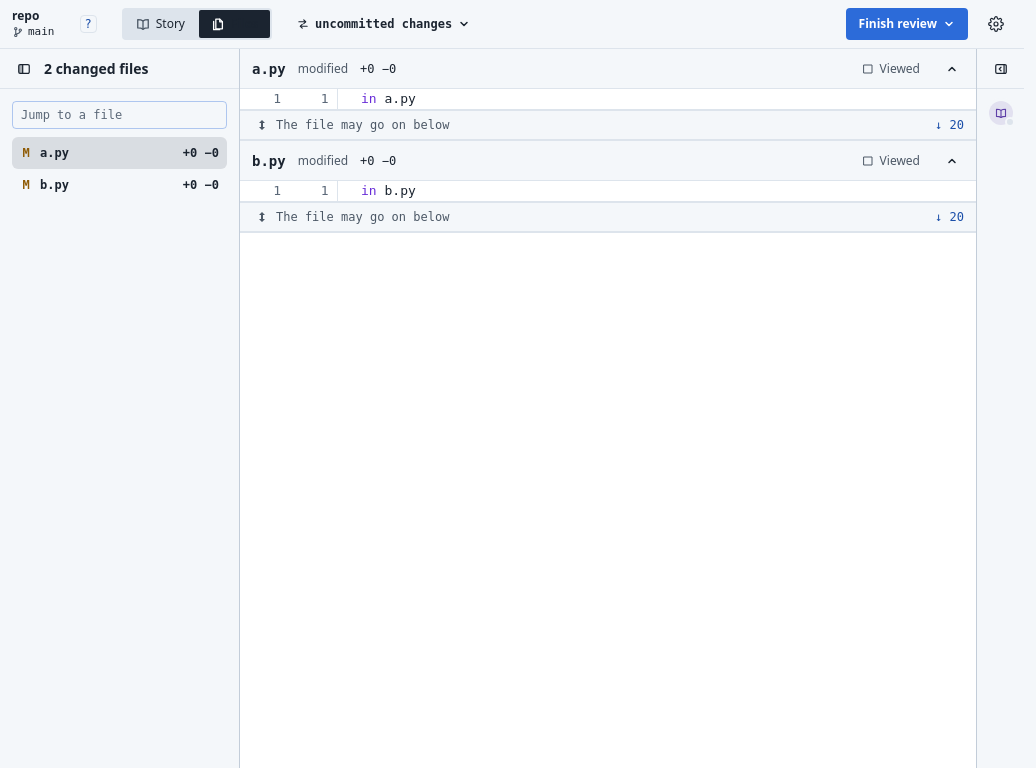
Test: the keys the review answers › leaves no cursor waiting when nobody is listening, for an agent arriving later to take
Type keys "c"
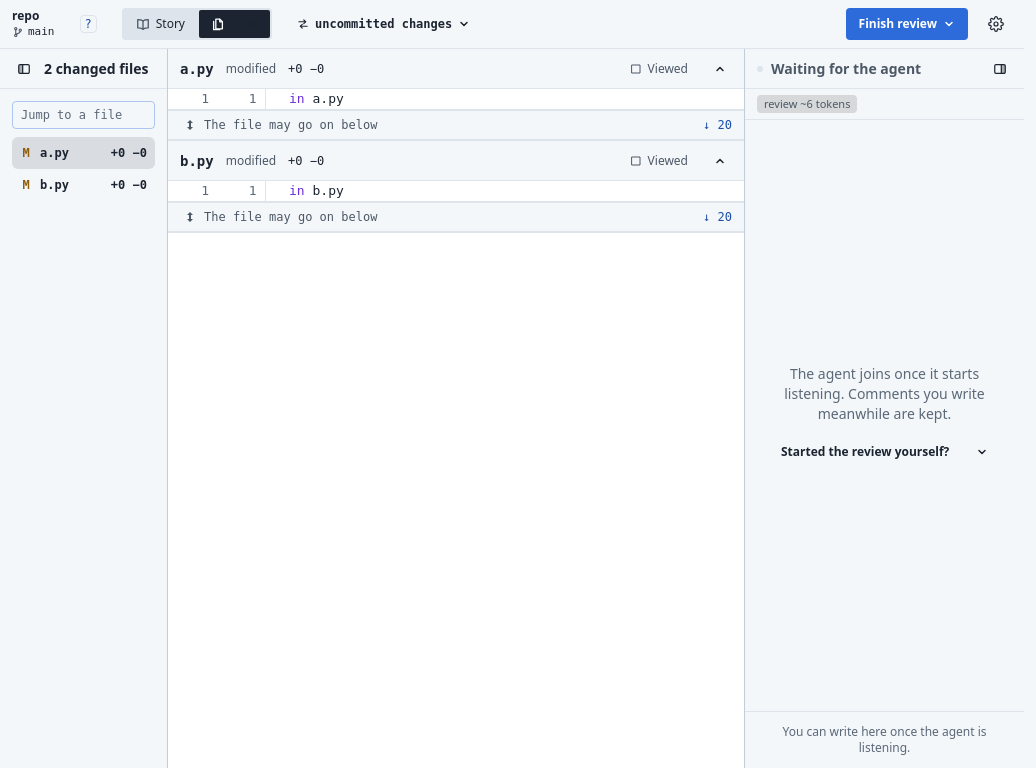
Click the 1st button with test id "line-gutter". click: click(241, 99)
box: [217,89,264,109]
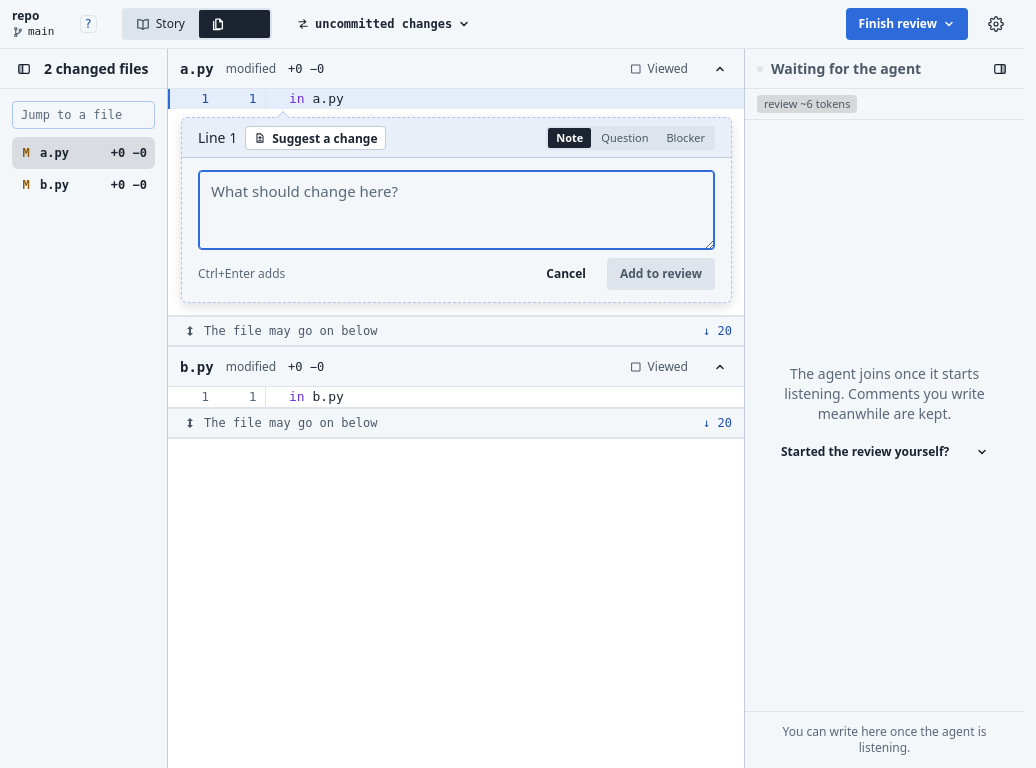
Type keys "Half"
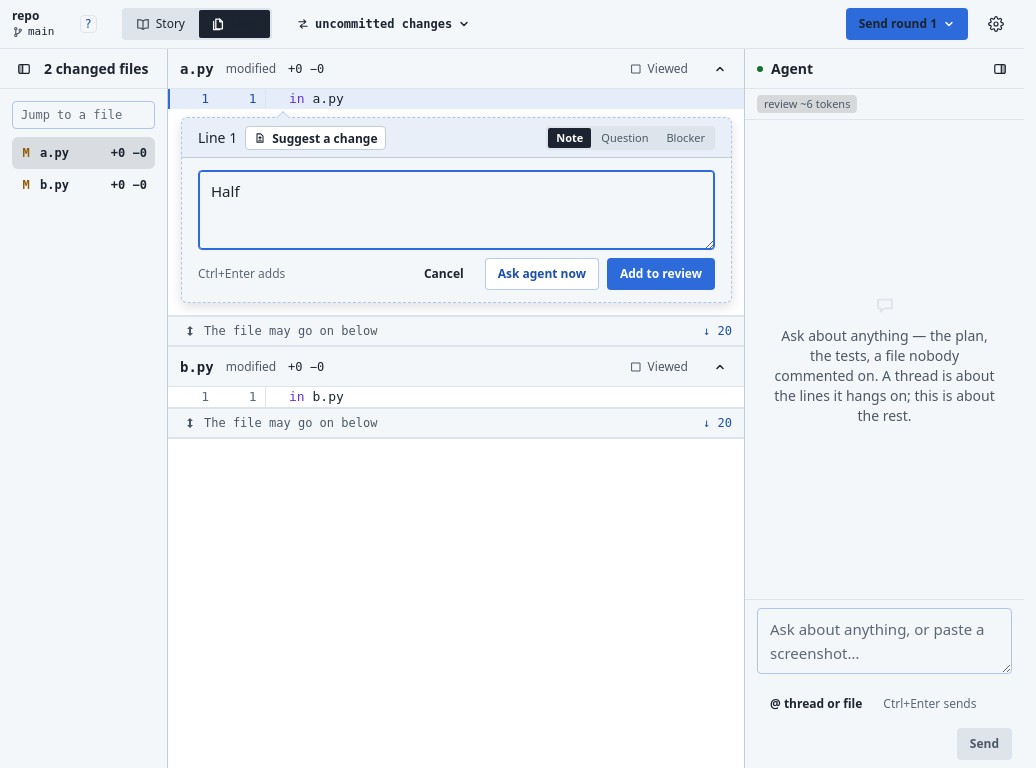
Expected: the text box with test id "panel-input" is shown, [757,608,1012,674]
